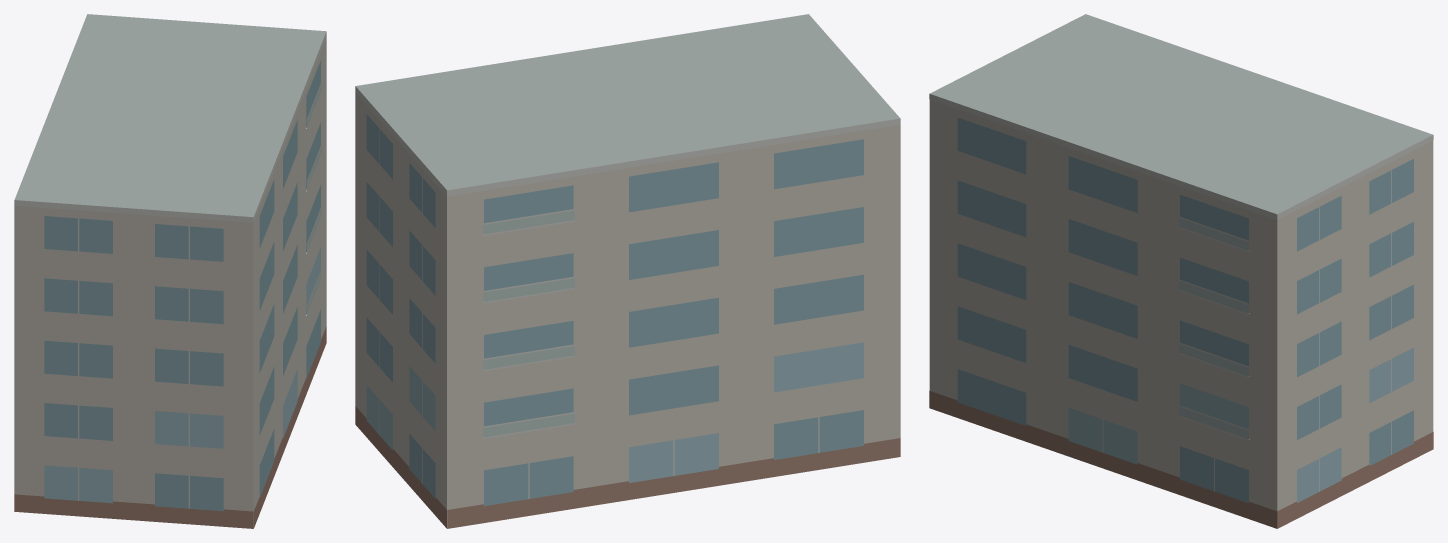
Rendered from survey-upis-32712345.glb.
The picture shows the model from 3 angles, left to right: view 1: azimuth 30°, elevation 25°; view 2: azimuth 150°, elevation 25°; view 3: azimuth 270°, elevation 25°; orthographic projection. The views are drawn at different scales.
Parts seen in each view (by area): view 1: survey-upis-32712345.tmp; view 2: survey-upis-32712345.tmp; view 3: survey-upis-32712345.tmp.
Boxes of the visible parts, x1=… form: survey-upis-32712345.tmp: x1=14, y1=14, x2=326, y2=528; survey-upis-32712345.tmp: x1=355, y1=14, x2=900, y2=528; survey-upis-32712345.tmp: x1=929, y1=14, x2=1433, y2=528.
Size of the model in its own units: 18.44 by 13.49 by 19.6.
